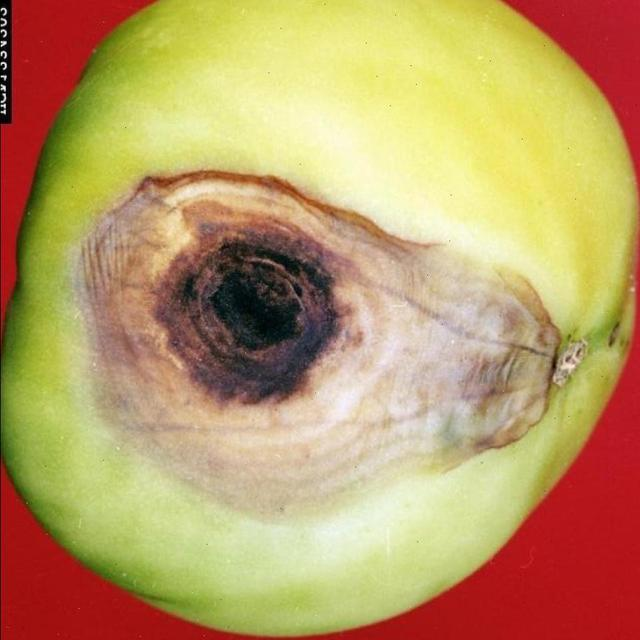Sunscald Fruit: (37, 104, 395, 347)
